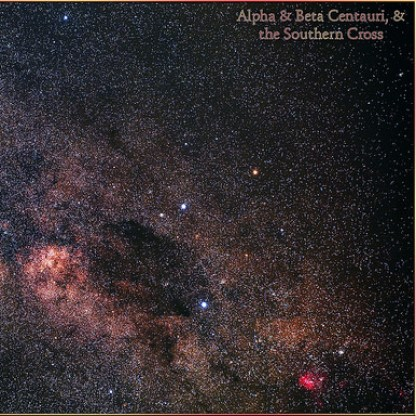Southern Cross: (243, 158, 264, 181), (174, 196, 195, 219), (192, 296, 214, 315), (272, 220, 291, 239)
